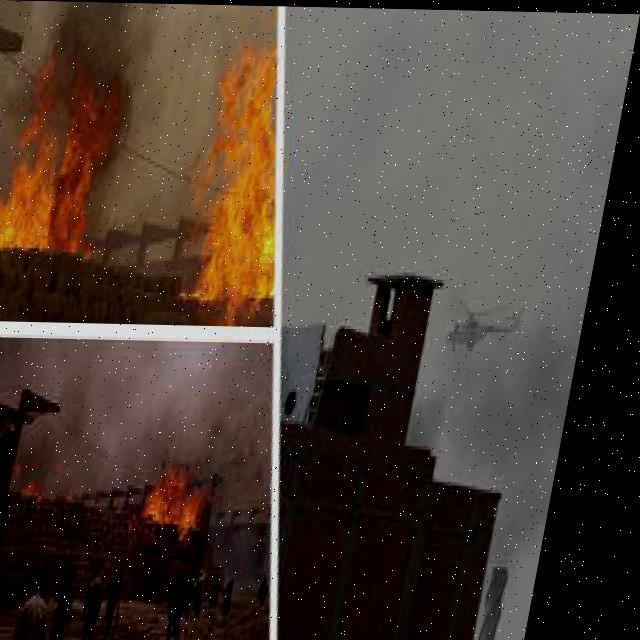Fire: (186, 42, 324, 300), (0, 52, 152, 268), (151, 462, 240, 540)
